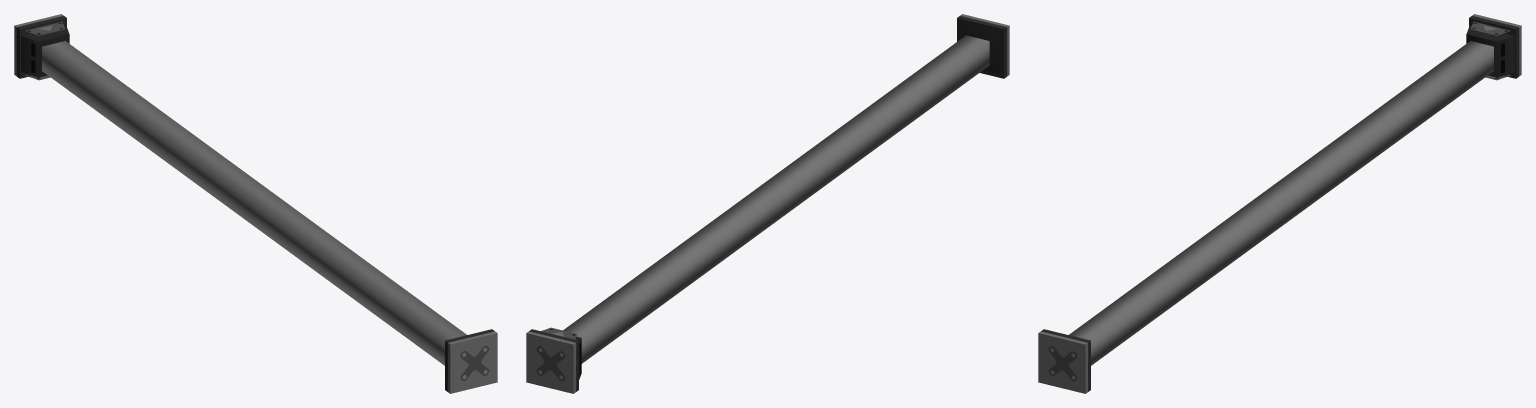
Rendered from obj_interactive_piston_02_on_lod1.fbx.
3 views of the same model, side by side, from view 1: azimuth 30°, elevation 25°; view 2: azimuth 150°, elevation 25°; view 3: azimuth 330°, elevation 25° (orthographic).
Parts seen in each view (by area): view 1: obj_interactive_piston_02_on_lod1; view 2: obj_interactive_piston_02_on_lod1; view 3: obj_interactive_piston_02_on_lod1.
Boxes of the visible parts, x1,y1,x2,y2 form: obj_interactive_piston_02_on_lod1: (14,14,497,393); obj_interactive_piston_02_on_lod1: (526,14,1009,393); obj_interactive_piston_02_on_lod1: (1038,14,1521,393).
Bounding box in the file's own units: 1 × 1 × 16.
